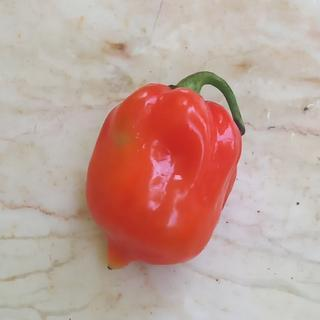Grade-A: (84, 80, 246, 273)
